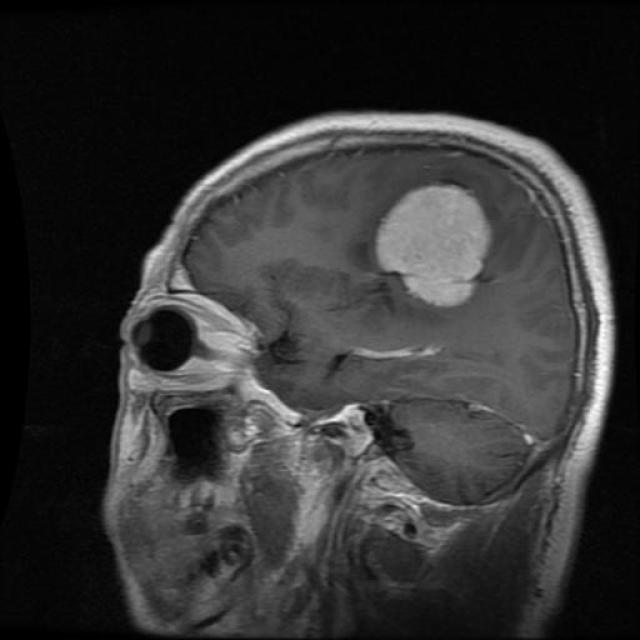meningioma: (375, 186, 490, 304)
